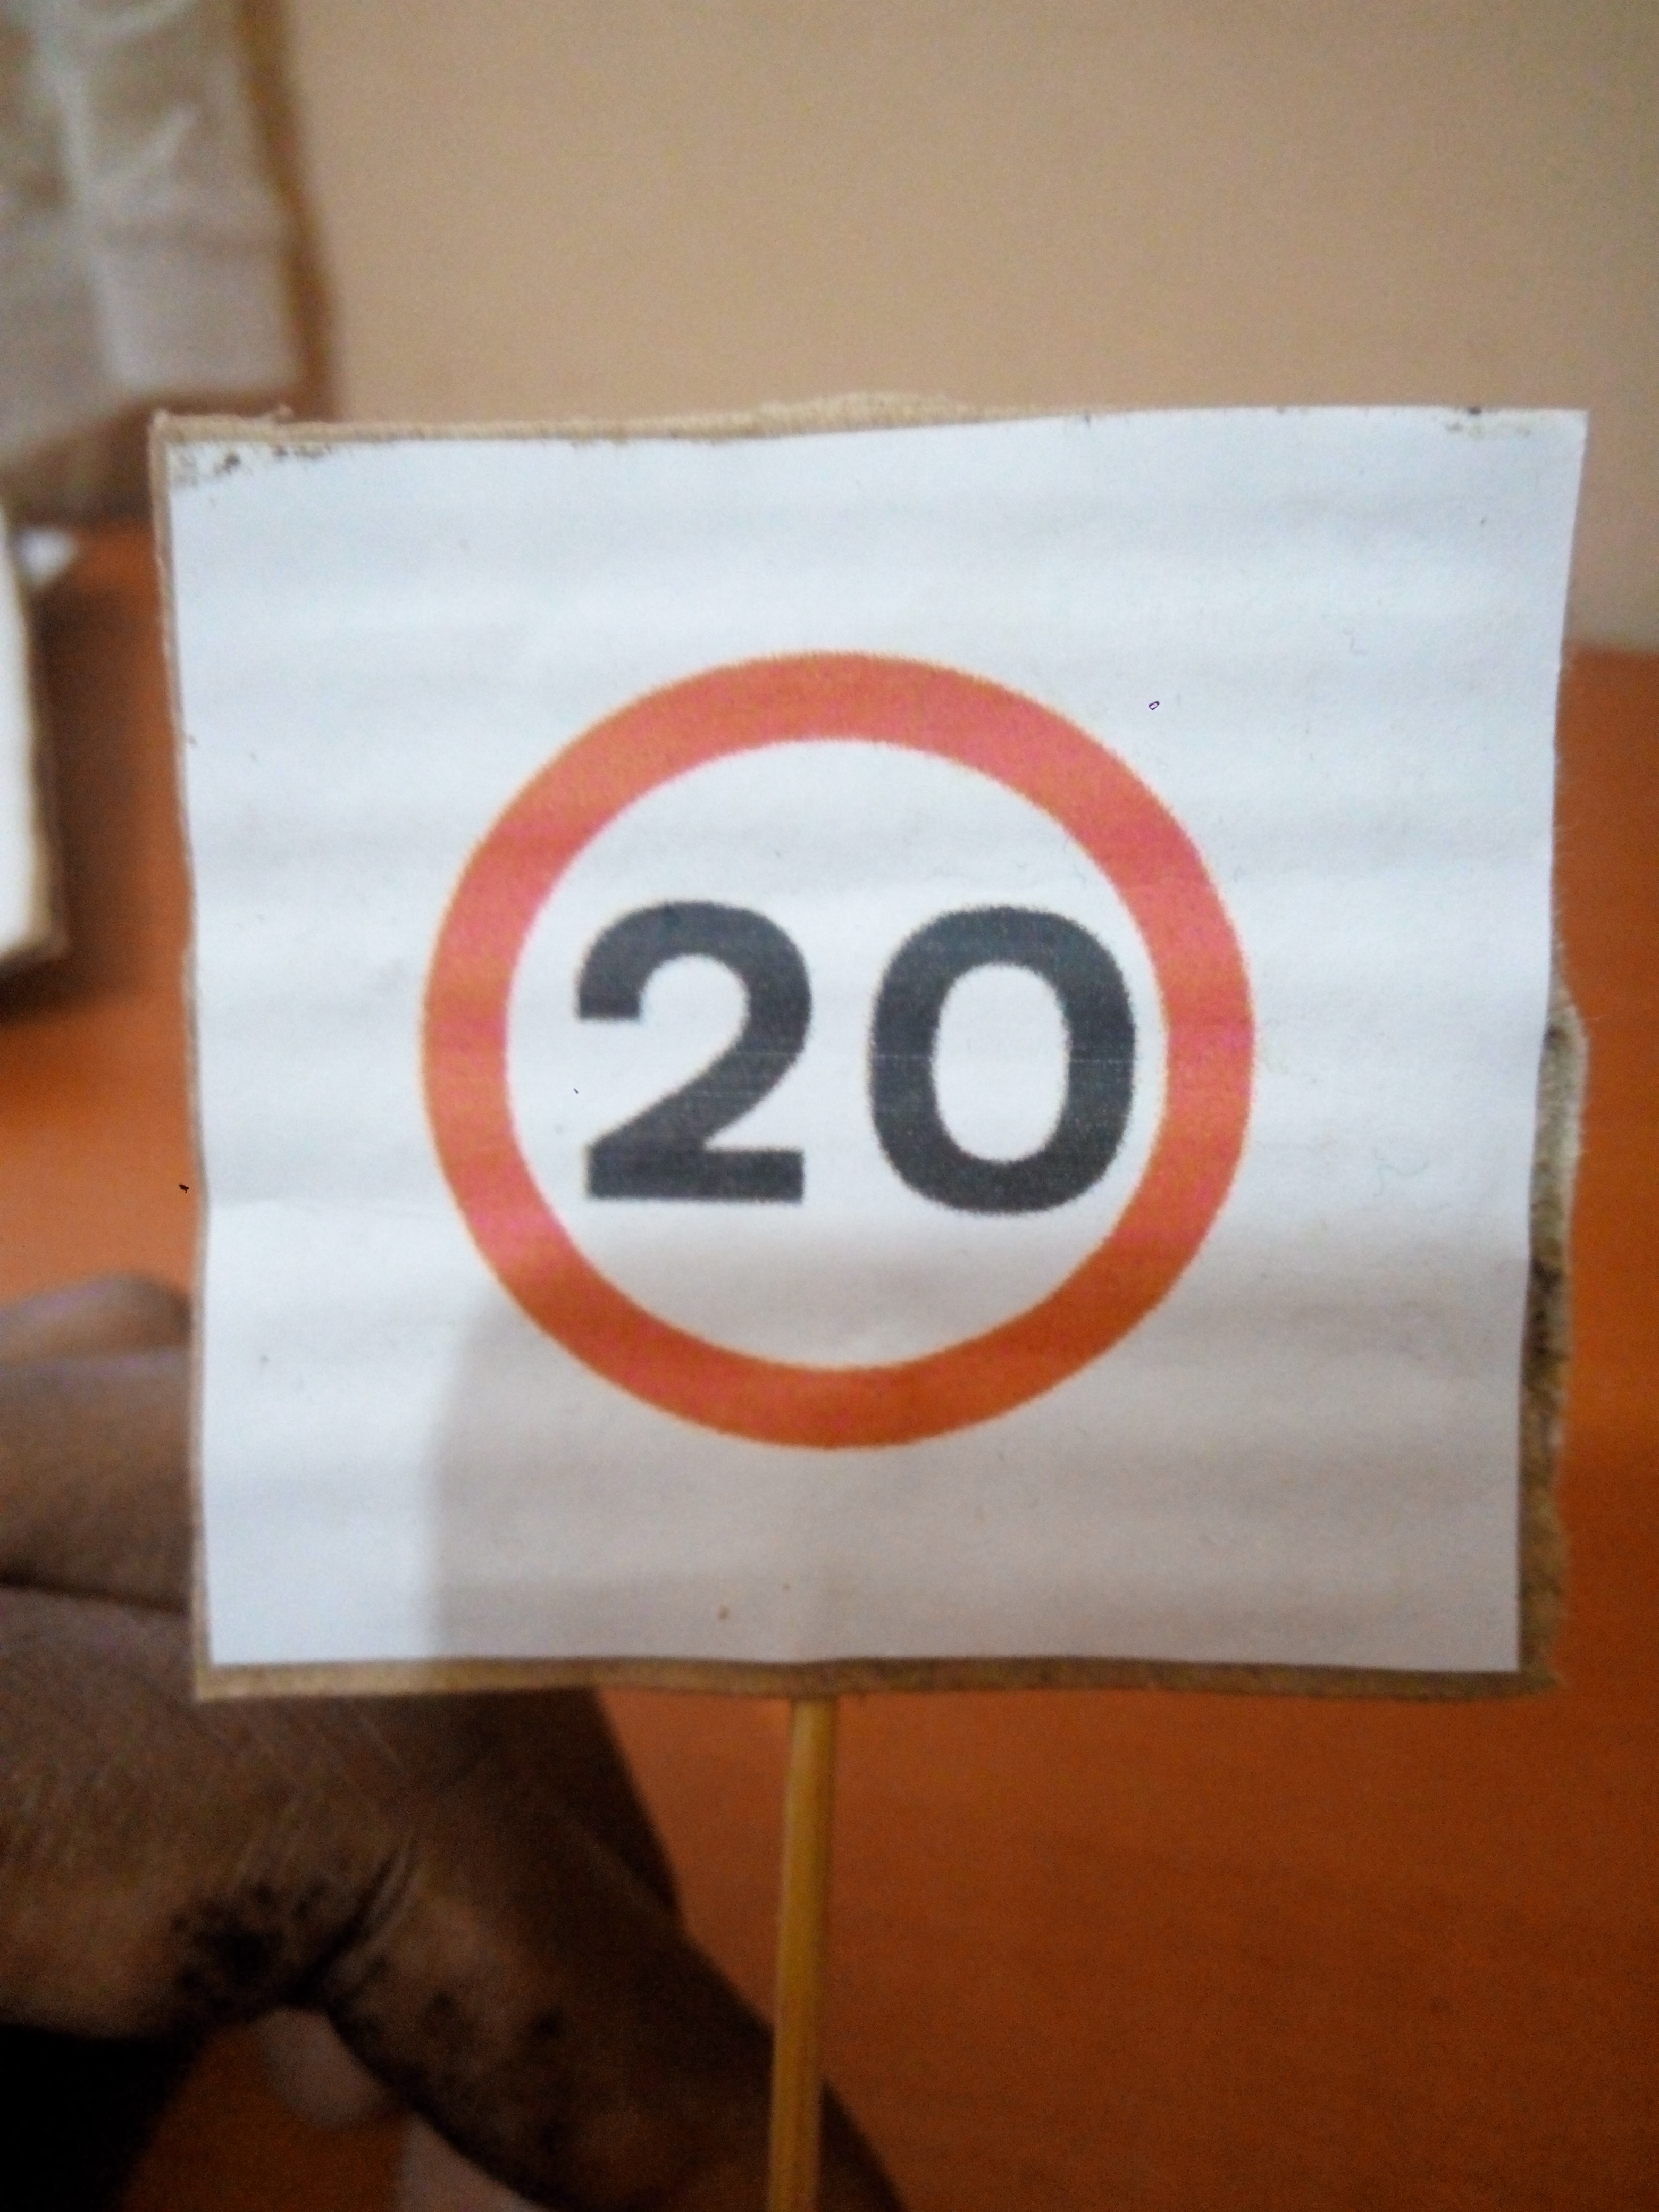20kph: (392, 582, 1291, 1531)
